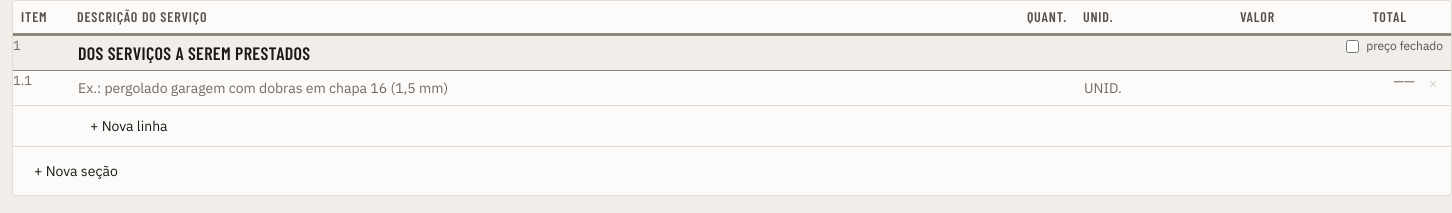
na grade › sugere enquanto digita
Click the dropdown named "Descrição do item 1.1" at [530, 88], box [69,71,991,105]
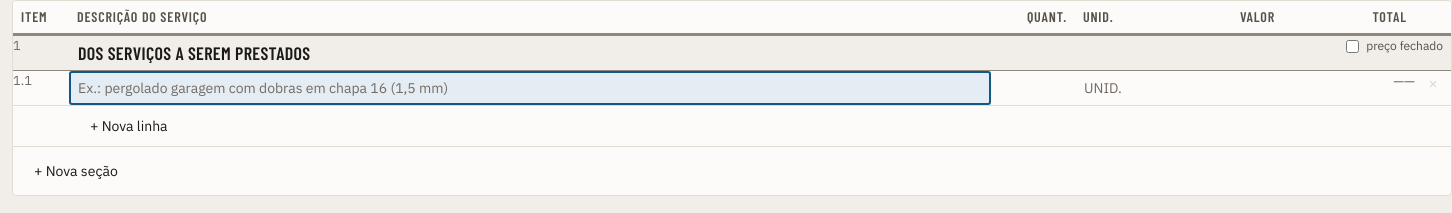
Type keys "pergola"
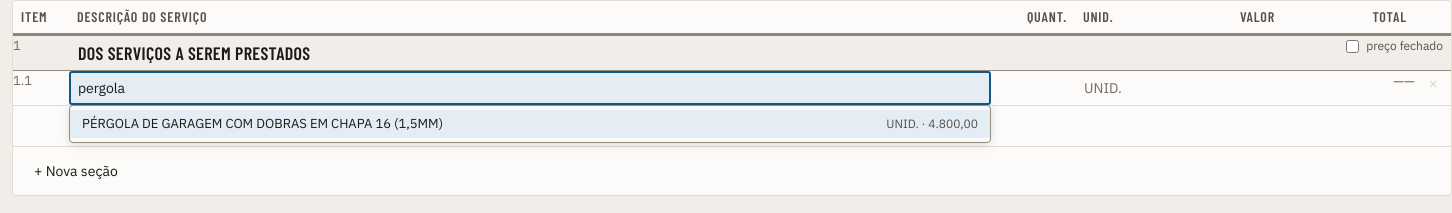
Now the list named "Serviços já orçados" is shown, box [69,105,991,143]
Now the option "PÉRGOLA DE GARAGEM" is shown, box [70,110,990,138]
